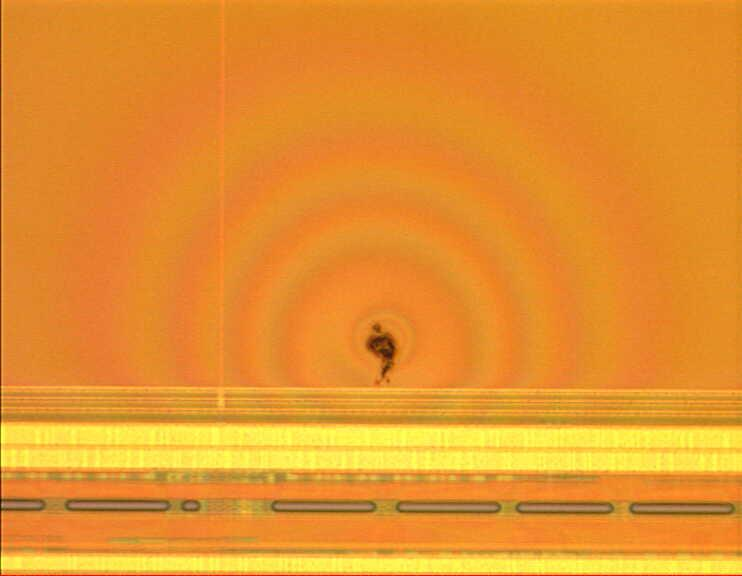PIQ PARTICLE: (356, 316, 403, 393)
